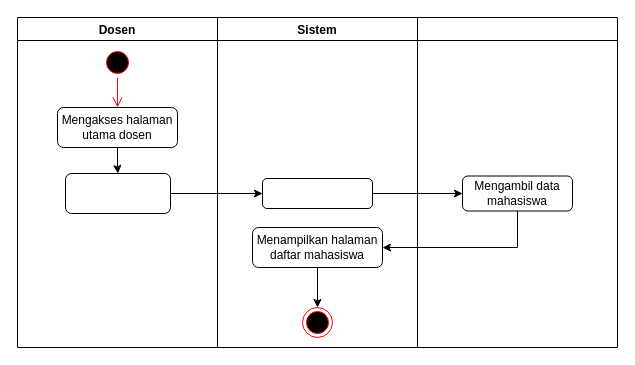
Some shapes in this 635 by 365 pixel diagram are drawn without their labels. The shapes that lost their labels are listed below. From the top down, each one's box as (x1, y1, x2, y2) in pixels, then its label:
(64, 172, 170, 214): Memilih fitur data mahasiswa
(262, 178, 372, 208): Request data mahasiswa
(416, 16, 618, 348): Database
